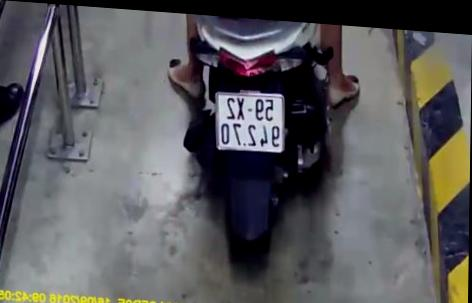License_Plate: (206, 83, 293, 165)
